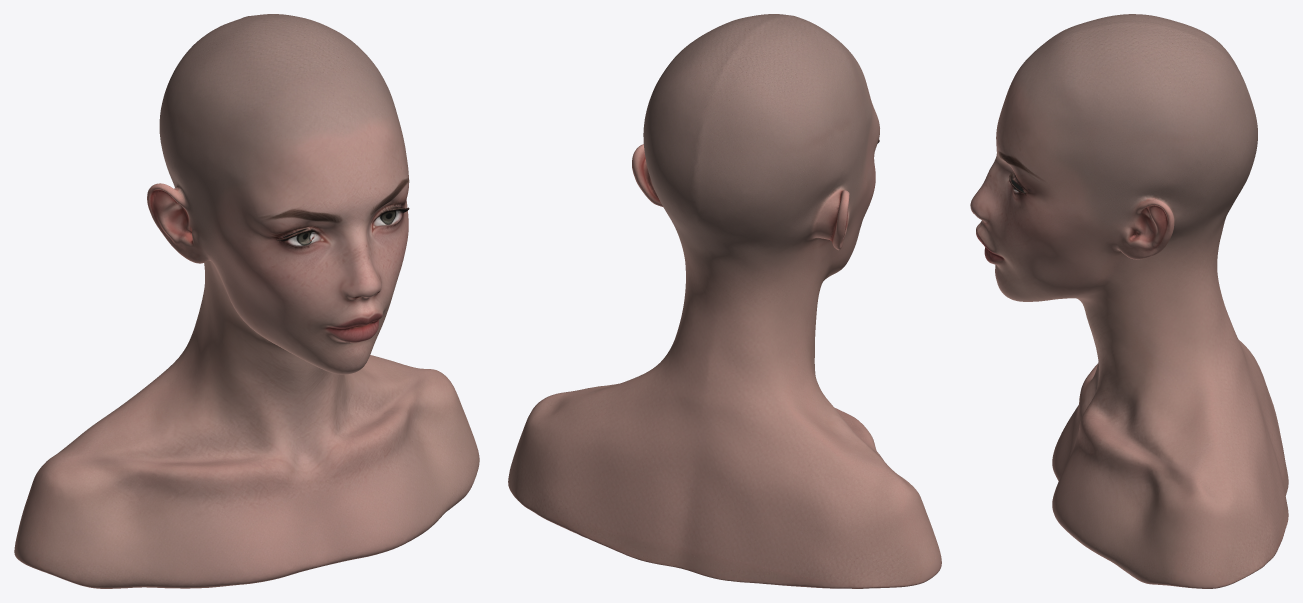
The model's file is rosto_8.glb.
The picture shows the model from 3 angles, left to right: view 1: azimuth 30°, elevation 25°; view 2: azimuth 150°, elevation 25°; view 3: azimuth 270°, elevation 25°; orthographic projection. The views are drawn at different scales.
Size of the model in its own units: 1.69 by 1.9 by 1.13.
1 material, 1 textured.
